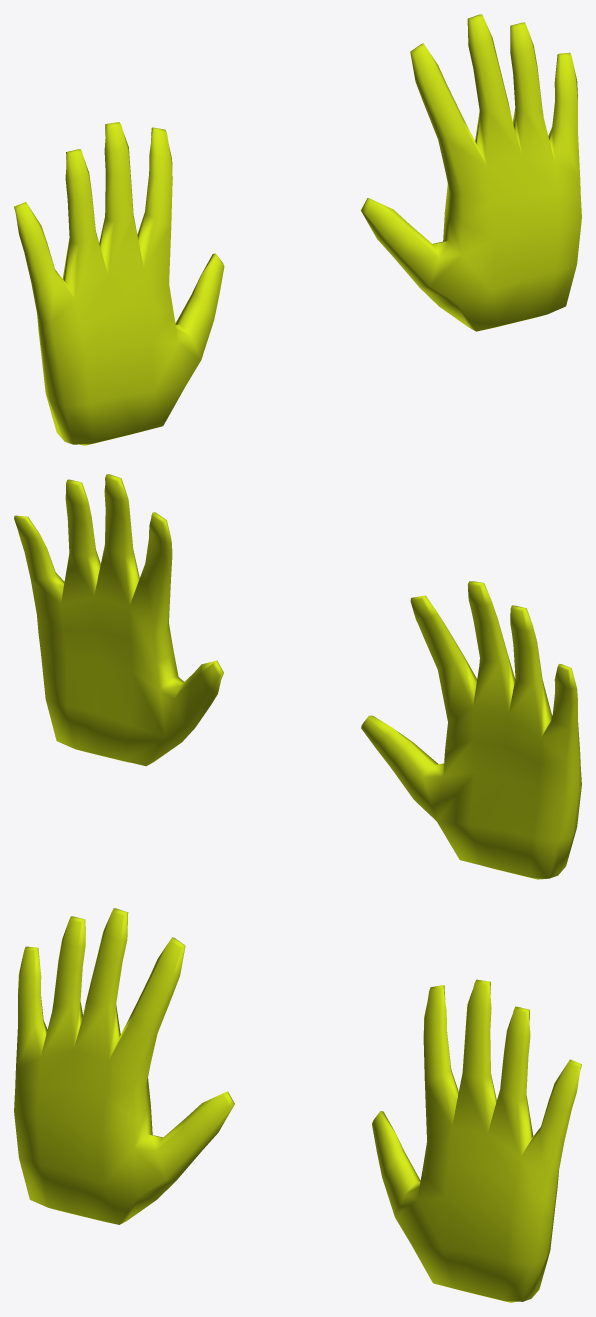
File: demohands.fbx
The picture shows the model from 3 angles, top to bottom: view 1: azimuth 30°, elevation 25°; view 2: azimuth 150°, elevation 25°; view 3: azimuth 330°, elevation 25°; orthographic projection.
Visible parts, largest first — view 1: Right Hand, Left Hand; view 2: Left Hand, Right Hand; view 3: Left Hand, Right Hand.
Boxes of the visible parts, left/top/right/bottom form: Right Hand: left=360, top=14, right=581, bottom=331; Left Hand: left=14, top=122, right=224, bottom=445; Left Hand: left=361, top=581, right=581, bottom=879; Right Hand: left=14, top=474, right=223, bottom=766; Left Hand: left=14, top=908, right=234, bottom=1224; Right Hand: left=372, top=979, right=581, bottom=1302.
Size of the model in its own units: 6.52 by 30.85 by 56.76.
